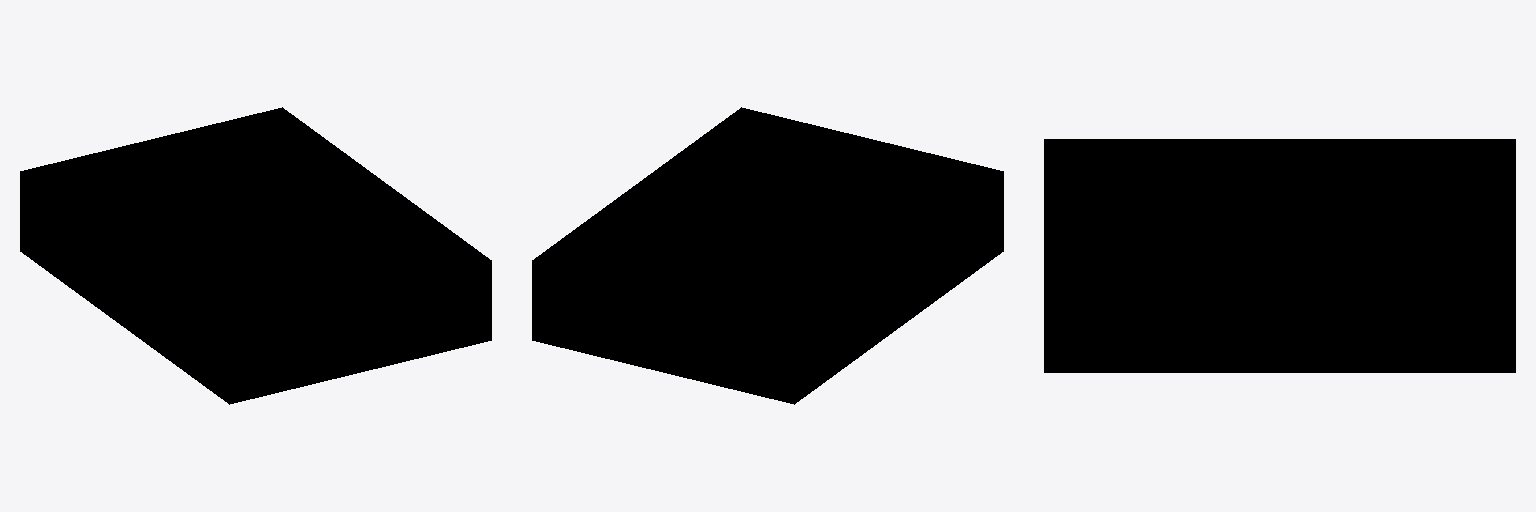
robot.urdf — myfirst:
<?xml version="1.0"?>
 <robot name="myfirst">
   <material name="red">
     <color rgba="1 0.498 0.3137 1"/>
   </material>
   <material name="black">
     <color rgba="0.0 0.0 0.0 1"/>
   </material>
   <material name="green">
     <color rgba="0 1 0.498 1"/>
   </material>
   <link name="right_leg">
     <visual>
       <geometry>
         <box size="0.14 0.19343700408935547 0.041"/>
       </geometry>
       <material name="black"/>
     </visual>
     <collision>
       <geometry>
         <box size="0.16 0.21343700408935547 0.061"/>
       </geometry>
     </collision>
     <inertial>
       <mass value="1"/>
       <inertia ixx="1.0" ixy="0.0" ixz="0.0" iyy="1.0" iyz="0.0" izz="1.0"/>
     </inertial>
   </link>
 </robot>

--- What the picture shows (computed from the rendered views, not written in the file) ---
3 views of the same robot in one strip: view 1: azimuth 30°, elevation 25°; view 2: azimuth 150°, elevation 25°; view 3: azimuth 270°, elevation 25° (orthographic).
Robot: myfirst — 1 links, 0 joints (none); root link right_leg; default pose: every joint at zero.
Visible links, largest first — view 1: right_leg; view 2: right_leg; view 3: right_leg.
Link boxes in pixels (x1,y1,x2,y2): right_leg: (20,107,491,404); right_leg: (532,107,1003,404); right_leg: (1044,139,1515,372).
Bounding box of the posed robot: 0.14 × 0.1934 × 0.041 m (x, y, z).
Geometry: primitives only (box / cylinder / sphere), no mesh files.
